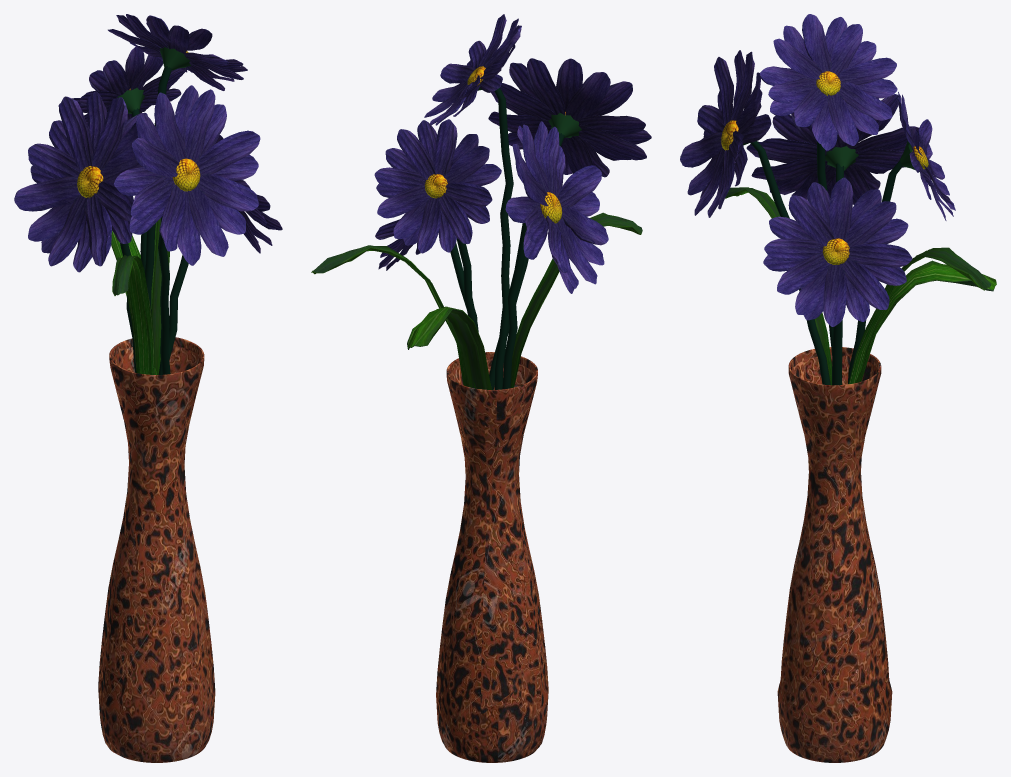
3 renders of one model, left to right at view 1: azimuth 30°, elevation 25°; view 2: azimuth 150°, elevation 25°; view 3: azimuth 270°, elevation 25°, orthographic. The views are drawn at different scales.
Visible parts, largest first — view 1: nurbsToPoly1, pPlane10 (×3), pPlane48, pPlane13 (×2), pPlane4 (×2), pPlane14 (×2), pPlane2 (×2), pPlane12 (×2), pPlane1 (×2), pPlane5 (×4), pPlane11 (×2), pCylinder2 (×2) (+11 smaller); view 2: nurbsToPoly1, pCylinder1 (×3), pPlane47, pPlane10 (×3), pPlane12 (×2), pPlane13 (×2), pPlane48, pPlane14 (×2), pPlane2 (×2), pPlane11 (×2), pPlane3 (×2), pPlane4 (×2) (+9 smaller); view 3: nurbsToPoly1, pPlane10 (×3), pPlane2 (×3), pPlane4 (×3), pPlane14 (×3), pPlane11 (×3), pPlane1 (×3), pPlane13 (×2), pPlane12 (×2), pPlane3 (×3), pPlane15 (×3), pPlane7 (×3) (+12 smaller).
Part boxes in pixels (box(x1,y1,x2,y2)): nurbsToPoly1: box(98, 337, 215, 762); pPlane10 (×3): box(92, 47, 186, 171); pPlane48: box(112, 255, 155, 374); pPlane13 (×2): box(84, 173, 258, 266); pPlane4 (×2): box(14, 176, 186, 251); pPlane14 (×2): box(48, 185, 228, 266); pPlane2 (×2): box(59, 96, 178, 177); pPlane12 (×2): box(96, 130, 260, 220); pPlane1 (×2): box(28, 143, 172, 220); pPlane5 (×4): box(86, 25, 189, 153); pPlane11 (×2): box(100, 89, 215, 182); pCylinder2 (×2): box(158, 216, 188, 374); nurbsToPoly1: box(436, 352, 548, 762); pCylinder1 (×3): box(457, 87, 526, 389); pPlane47: box(407, 306, 491, 389); pPlane10 (×3): box(433, 58, 582, 192); pPlane12 (×2): box(446, 165, 601, 207); pPlane13 (×2): box(439, 193, 608, 245); pPlane48: box(510, 212, 642, 388); pPlane14 (×2): box(417, 197, 597, 284); pPlane2 (×2): box(397, 81, 632, 179); pPlane11 (×2): box(444, 126, 559, 196); pPlane3 (×2): box(505, 115, 645, 223); pPlane4 (×2): box(377, 186, 567, 272); nurbsToPoly1: box(777, 347, 892, 762); pPlane10 (×3): box(731, 14, 853, 240); pPlane2 (×3): box(714, 38, 834, 246); pPlane4 (×3): box(680, 87, 829, 294); pPlane14 (×3): box(694, 92, 858, 326); pPlane11 (×3): box(772, 24, 896, 247); pPlane1 (×3): box(697, 78, 822, 261); pPlane13 (×2): box(838, 82, 892, 309); pPlane12 (×2): box(838, 57, 912, 267); pPlane3 (×3): box(759, 66, 919, 250); pPlane15 (×3): box(741, 114, 908, 247); pPlane7 (×3): box(751, 79, 906, 285).
Bounding box in the file's own units: 5.83 × 19.01 × 7.57.
6 materials, 4 textured.
